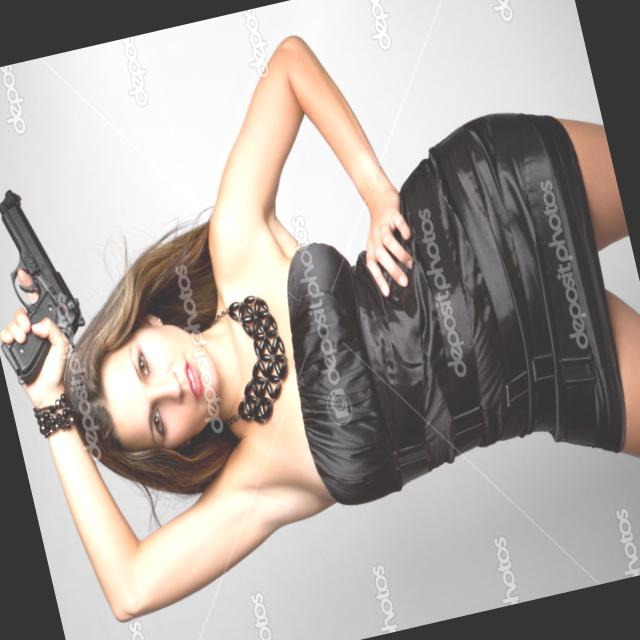handgun: (0, 169, 101, 395)
